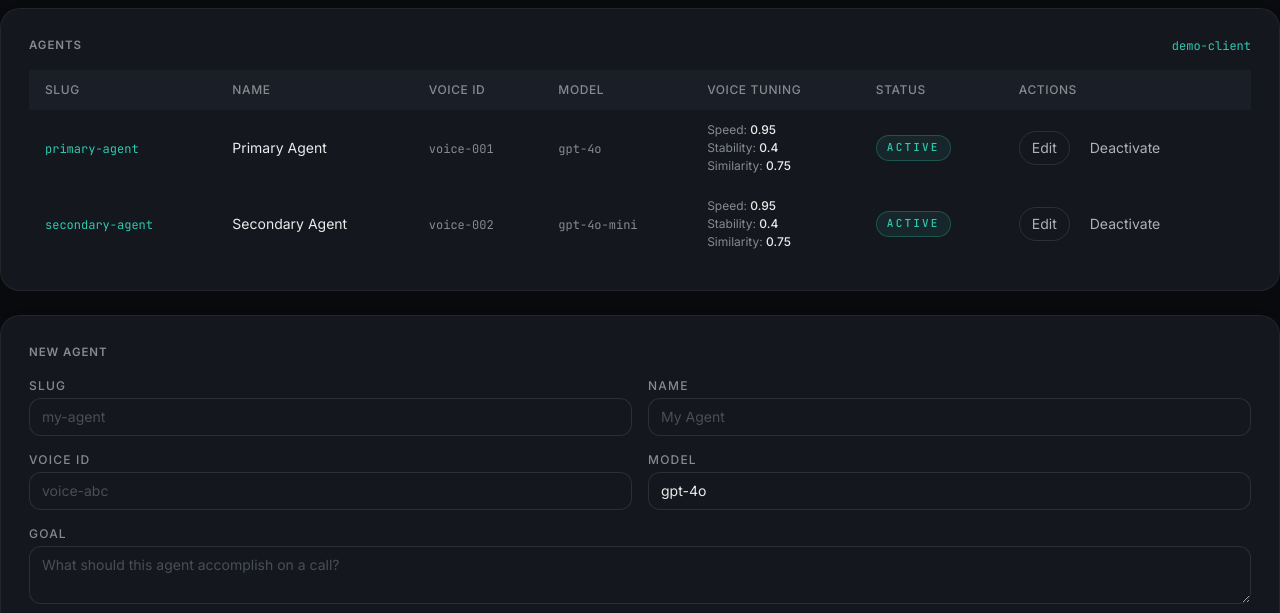
it: AgentsSection effective config › shows an Incomplete badge and the missing fields when config_incomplete
The image size is (1280, 613).
Click the button "Edit" in the row of "primary-agent" at (1044, 148), box [1019,131,1070,165]
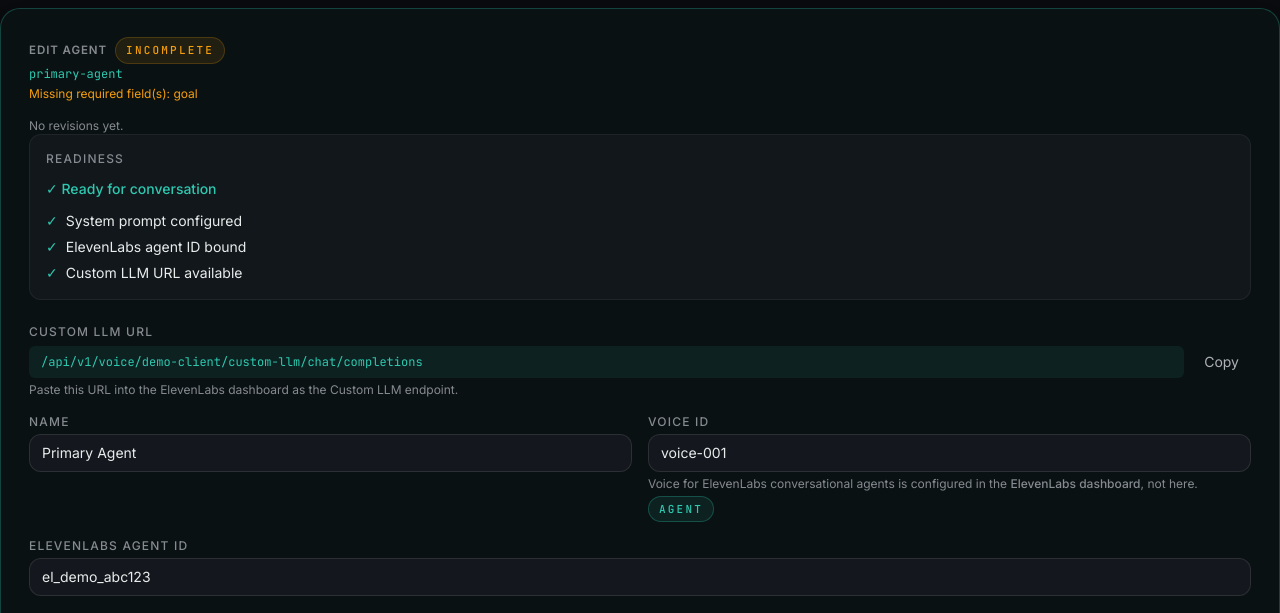
expect the text "Incomplete" is shown: met, box [115,37,225,64]
expect the text "Missing required field(s): goal" is shown: met, box [29,86,198,100]
